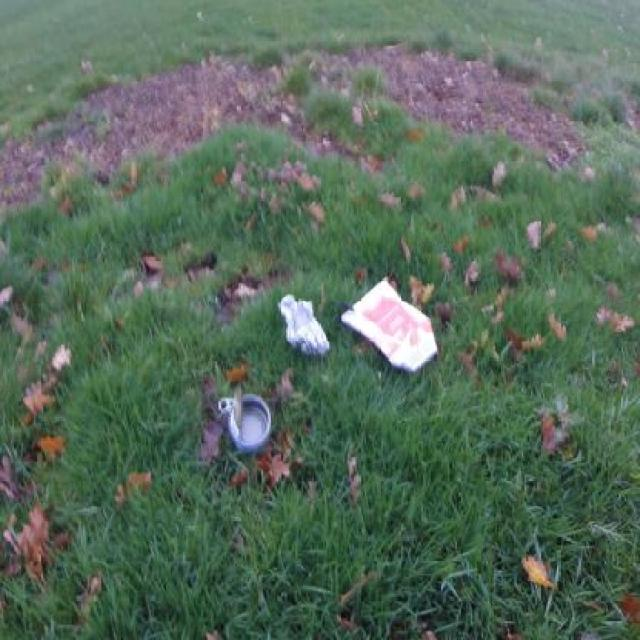cardboard: (340, 277, 438, 375)
metal: (219, 386, 272, 454), (278, 294, 330, 358)
